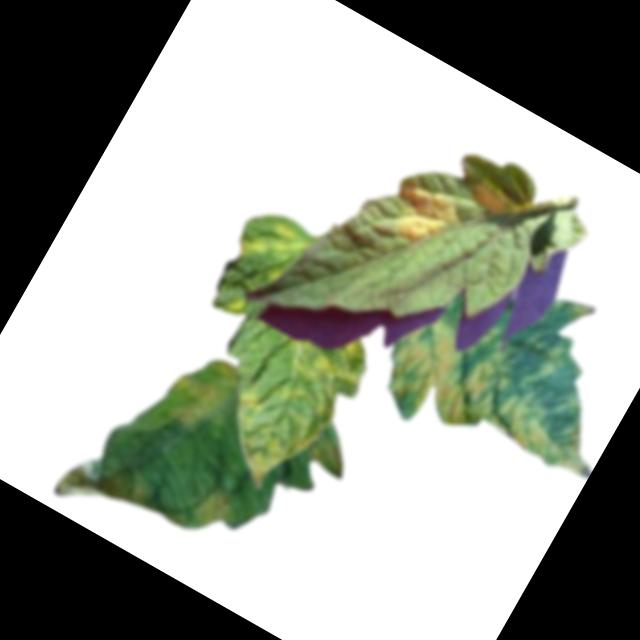Leaf_Mold: (369, 307, 620, 511), (205, 351, 345, 500), (49, 436, 156, 536), (278, 312, 382, 407), (155, 342, 248, 441), (379, 172, 468, 261), (230, 206, 314, 287), (186, 479, 246, 540), (302, 429, 357, 481), (462, 174, 512, 220), (218, 291, 250, 323)
